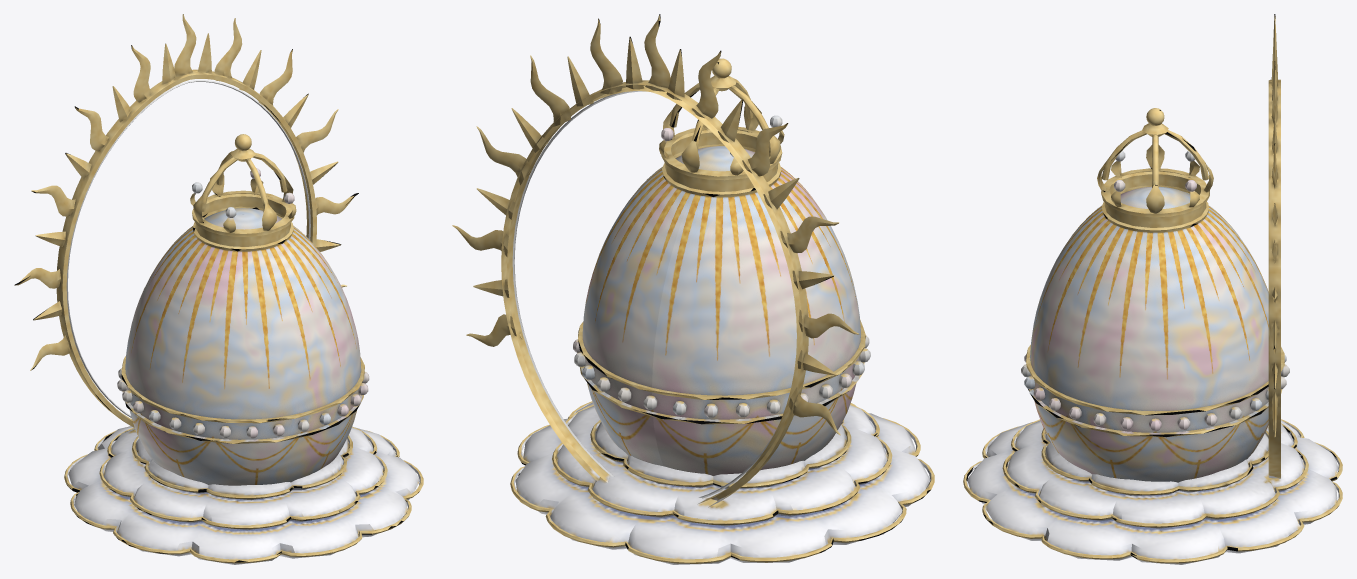
The model's file is HeavenlyThroneEgg.fbx.
3 renders of one model, left to right at view 1: azimuth 30°, elevation 25°; view 2: azimuth 150°, elevation 25°; view 3: azimuth 270°, elevation 25°, orthographic. The views are drawn at different scales.
Parts seen in each view (by area): view 1: HeavenlyThroneEgg_Body, HeavenlyThroneEgg_Glow_ffa31a; view 2: HeavenlyThroneEgg_Body, HeavenlyThroneEgg_Glow_ffa31a; view 3: HeavenlyThroneEgg_Body.
Boxes of the visible parts, x1,y1,x2,y2 form: HeavenlyThroneEgg_Body: (14, 14, 423, 564); HeavenlyThroneEgg_Glow_ffa31a: (66, 80, 310, 417); HeavenlyThroneEgg_Body: (452, 14, 934, 564); HeavenlyThroneEgg_Glow_ffa31a: (512, 91, 775, 498); HeavenlyThroneEgg_Body: (963, 14, 1342, 564).
Bounding box in the file's own units: 3.46 × 4.24 × 3.11.
2 materials, 1 textured.
